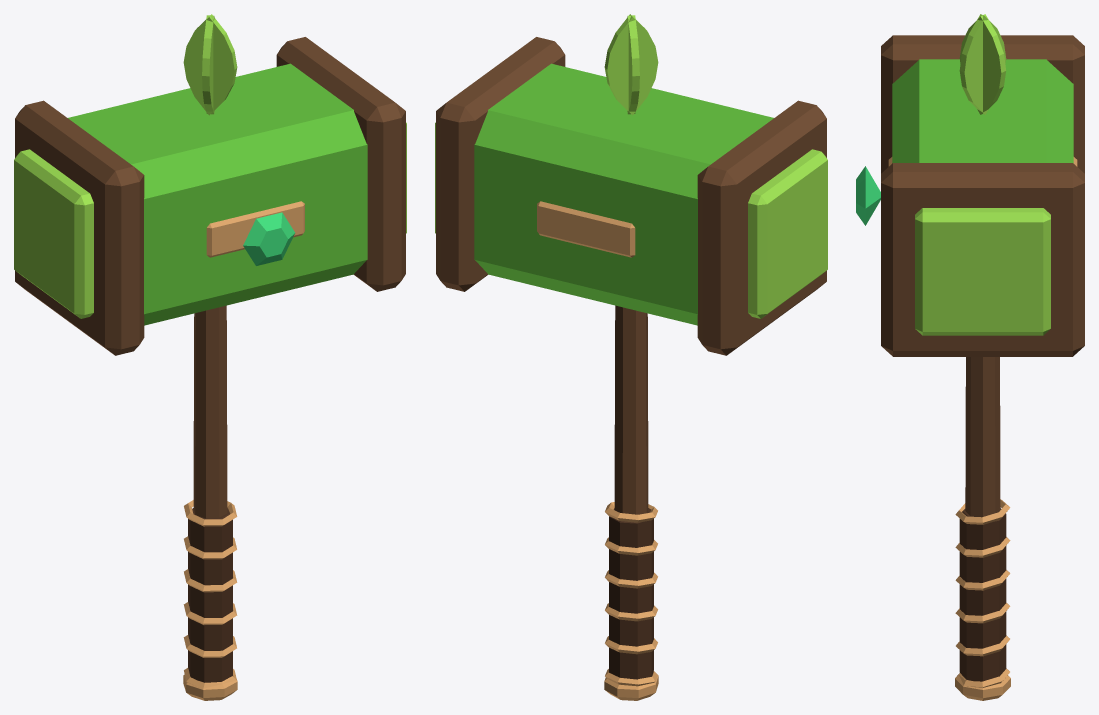
The model's file is NatureHammer.fbx.
The picture shows the model from 3 angles, left to right: view 1: azimuth 30°, elevation 25°; view 2: azimuth 150°, elevation 25°; view 3: azimuth 270°, elevation 25°; orthographic projection.
Parts seen in each view (by area): view 1: NatureHammer; view 2: NatureHammer; view 3: NatureHammer.
Boxes of the visible parts, bbox=[...] form: NatureHammer: bbox=[14, 14, 406, 700]; NatureHammer: bbox=[435, 14, 827, 700]; NatureHammer: bbox=[856, 14, 1084, 700].
Bounding box in the file's own units: 2.54 × 4.94 × 1.52.
1 material, 1 textured.
